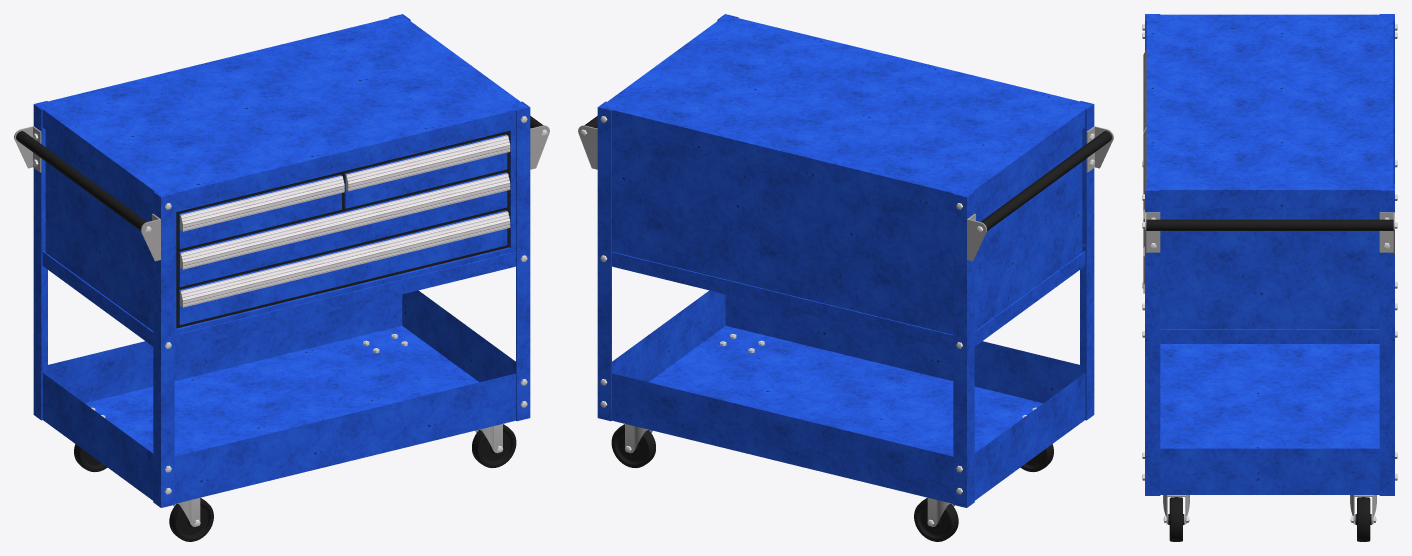
Rendered from tool_cart.glb.
3 views of the same model, side by side, from view 1: azimuth 30°, elevation 25°; view 2: azimuth 150°, elevation 25°; view 3: azimuth 270°, elevation 25° (orthographic).
Parts seen in each view (by area): view 1: Material2 (×18); view 2: Material2 (×8); view 3: Material2 (×8), Material3 (×2).
Boxes of the visible parts, box(x1,y1,x2,y2) form: Material2 (×18): box(16, 15, 530, 507); Material2 (×8): box(597, 15, 1111, 507); Material2 (×8): box(1145, 14, 1394, 495); Material3 (×2): box(1145, 212, 1394, 254).
Size of the model in its own units: 41.26 by 35.27 by 22.78.
Materials: 9 (2 with a texture image).
